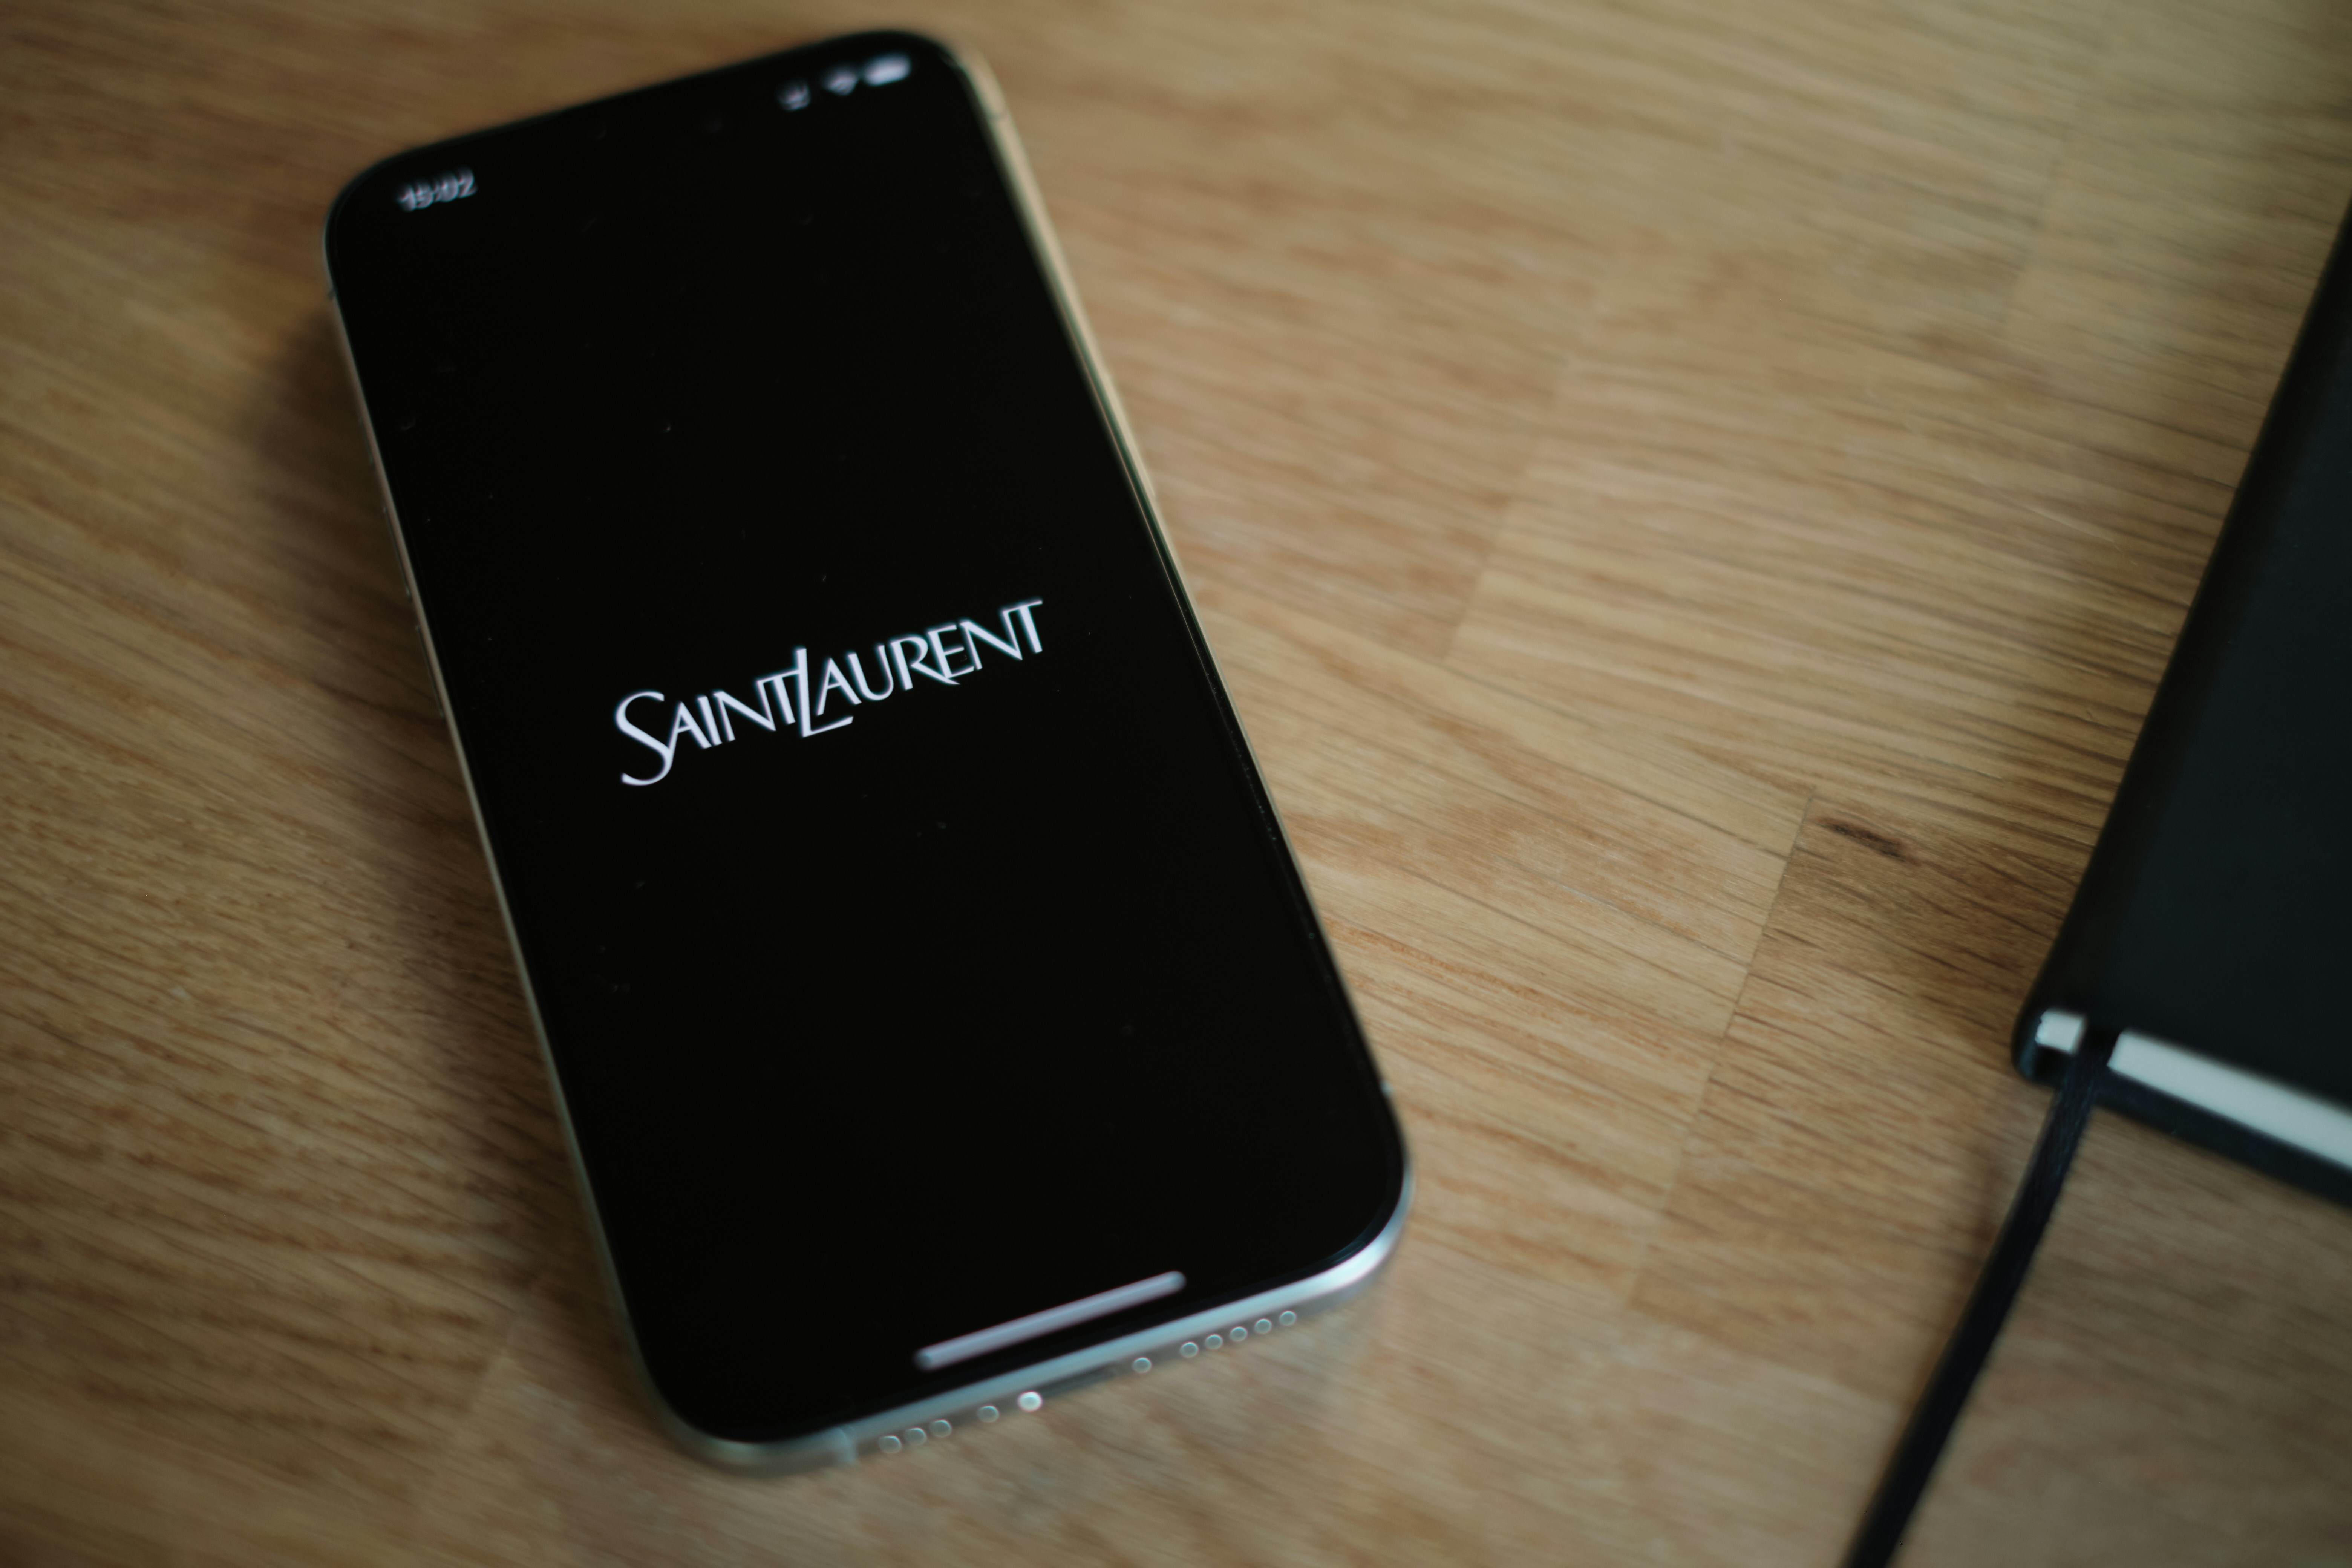p6: (266, 24, 1535, 1568)
